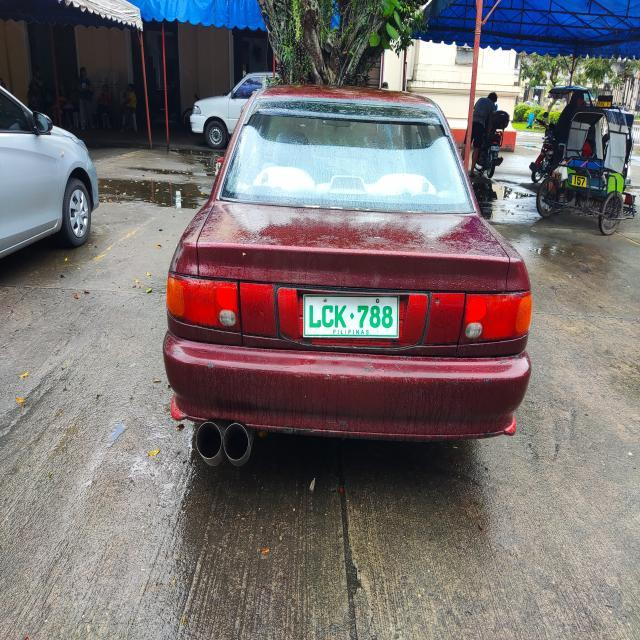LicensePlate: (294, 286, 403, 354)
